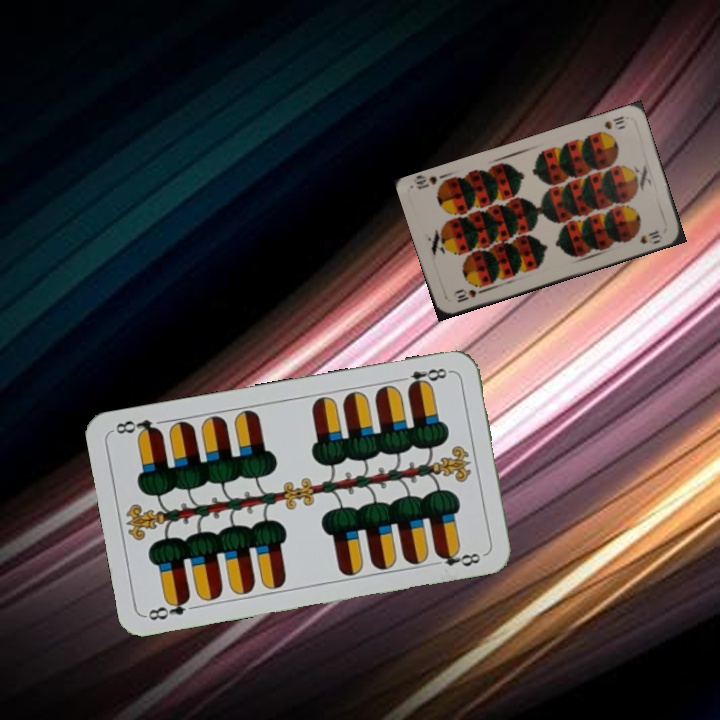E8: (395, 364, 454, 392), (144, 592, 193, 623)
S10: (449, 285, 487, 305), (600, 112, 627, 132)
